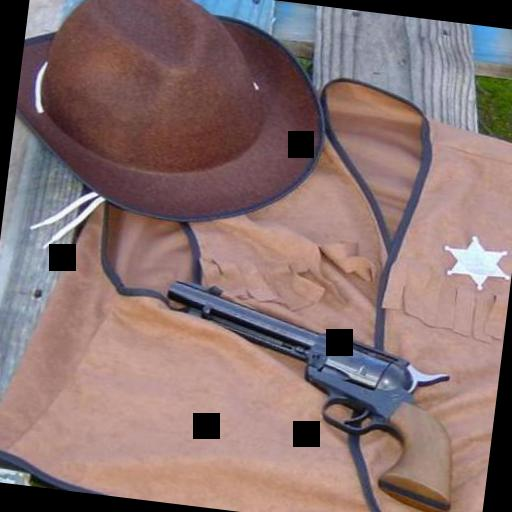Handgun: (143, 274, 477, 512)
